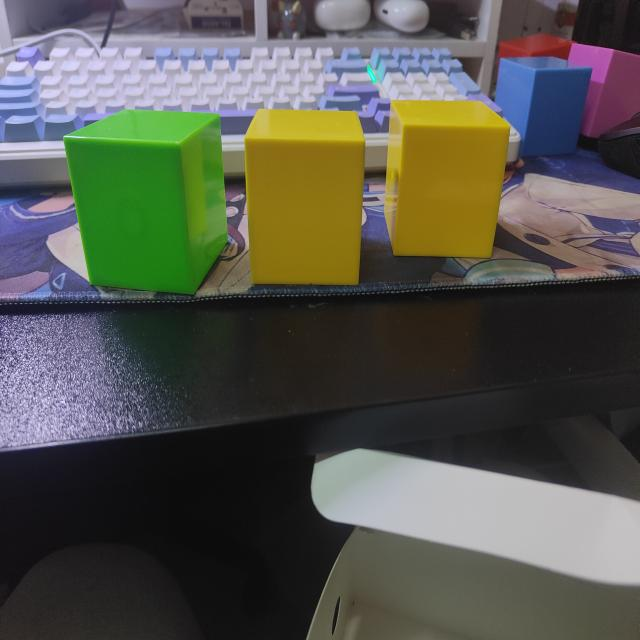green: (63, 110, 228, 297)
yellow: (382, 92, 514, 265), (243, 109, 365, 290)
